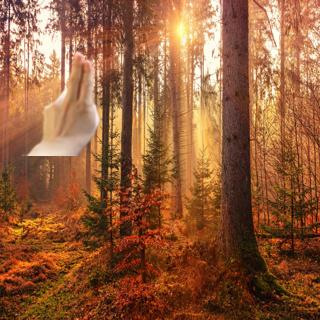DHAVE: (37, 48, 102, 150)
